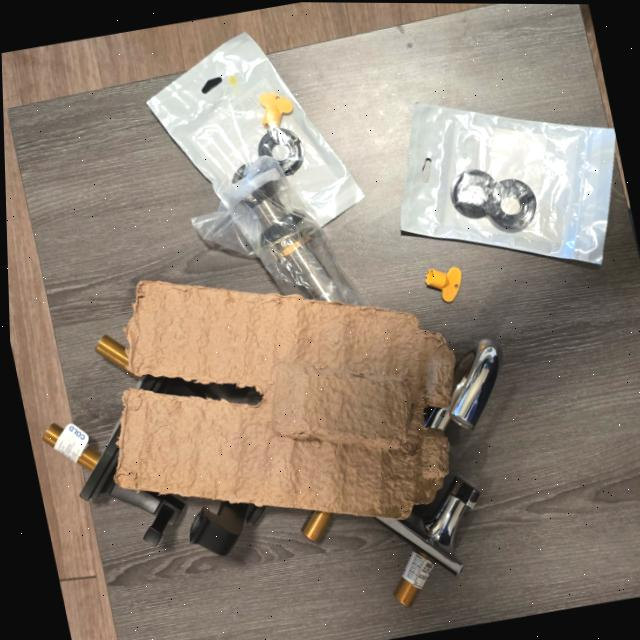10o: (376, 476, 479, 605), (422, 338, 501, 430), (300, 510, 332, 541)
11o: (191, 155, 364, 304)
12o: (146, 32, 362, 232)
13: (399, 102, 614, 263)
14: (424, 266, 460, 301)
9o: (41, 420, 182, 544), (136, 374, 260, 404), (188, 500, 255, 555), (94, 334, 128, 372)
